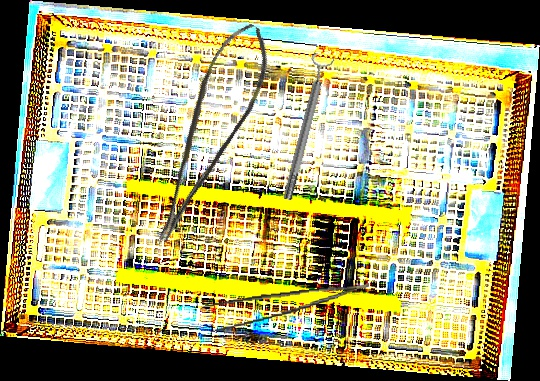Fixation Ring: (274, 51, 337, 203)
Micro Scissor: (120, 15, 289, 247)
Tissue Forceps: (199, 283, 373, 333)
